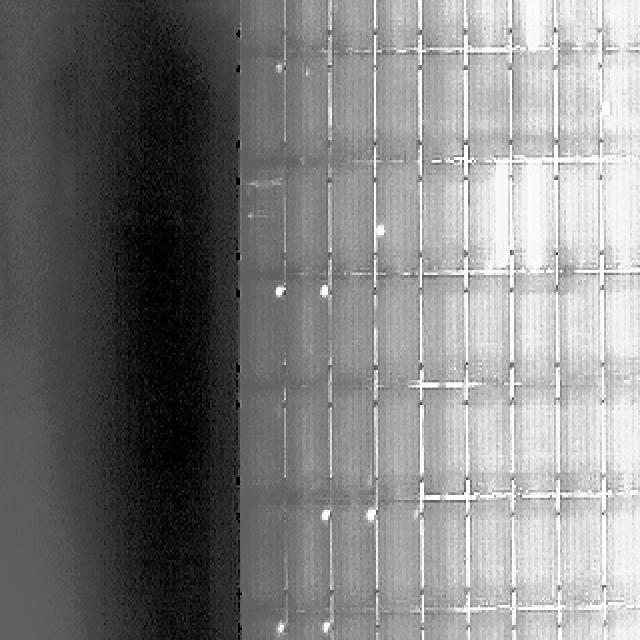Hotspots: (374, 221, 390, 243), (269, 279, 286, 299), (317, 280, 333, 301), (318, 503, 334, 524), (600, 97, 615, 119), (362, 503, 378, 523), (271, 57, 285, 76)
PV-modules: (460, 49, 514, 160), (282, 385, 330, 503), (463, 276, 512, 388), (281, 500, 330, 612), (466, 383, 514, 497), (327, 274, 376, 385), (372, 277, 421, 388), (236, 384, 282, 502), (330, 163, 378, 275), (376, 504, 424, 616), (373, 385, 420, 499), (512, 160, 560, 271), (330, 386, 375, 503), (332, 504, 379, 616), (373, 162, 420, 274), (421, 276, 468, 388), (421, 384, 467, 498), (465, 494, 511, 608), (418, 162, 464, 276), (421, 501, 468, 612), (281, 165, 328, 276), (516, 493, 562, 606), (514, 275, 560, 388), (329, 52, 376, 162), (243, 504, 288, 618), (420, 49, 466, 160), (558, 497, 604, 608), (556, 382, 602, 493), (516, 383, 562, 494), (555, 47, 601, 157), (282, 280, 328, 390), (558, 160, 602, 274), (241, 280, 287, 389), (514, 48, 559, 159), (379, 50, 424, 161), (556, 271, 601, 382), (467, 161, 512, 272), (284, 54, 330, 162), (241, 59, 286, 167), (598, 45, 640, 157), (236, 176, 282, 276), (600, 490, 640, 602), (600, 275, 640, 385), (602, 158, 640, 272), (604, 378, 640, 492), (240, 0, 284, 58), (328, 0, 374, 55), (280, 0, 326, 55), (464, 0, 512, 50), (552, 0, 598, 52), (374, 614, 468, 639), (372, 0, 418, 50), (420, 0, 464, 50), (512, 0, 556, 48), (600, 0, 640, 50), (468, 607, 516, 640), (514, 607, 562, 640), (556, 607, 602, 640), (604, 605, 640, 640), (420, 612, 466, 639), (377, 616, 426, 640), (327, 618, 380, 640), (278, 617, 331, 639), (242, 616, 286, 640)
